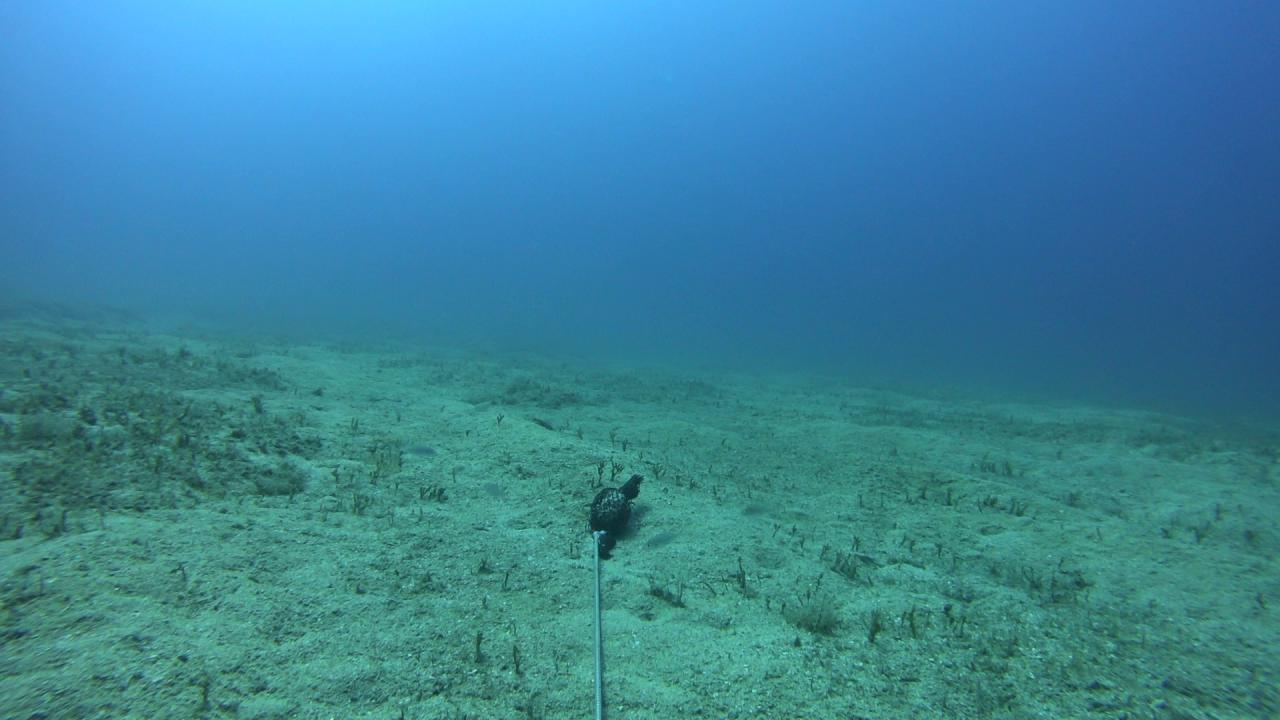pagellus: (641, 524, 685, 553), (742, 500, 785, 519)
